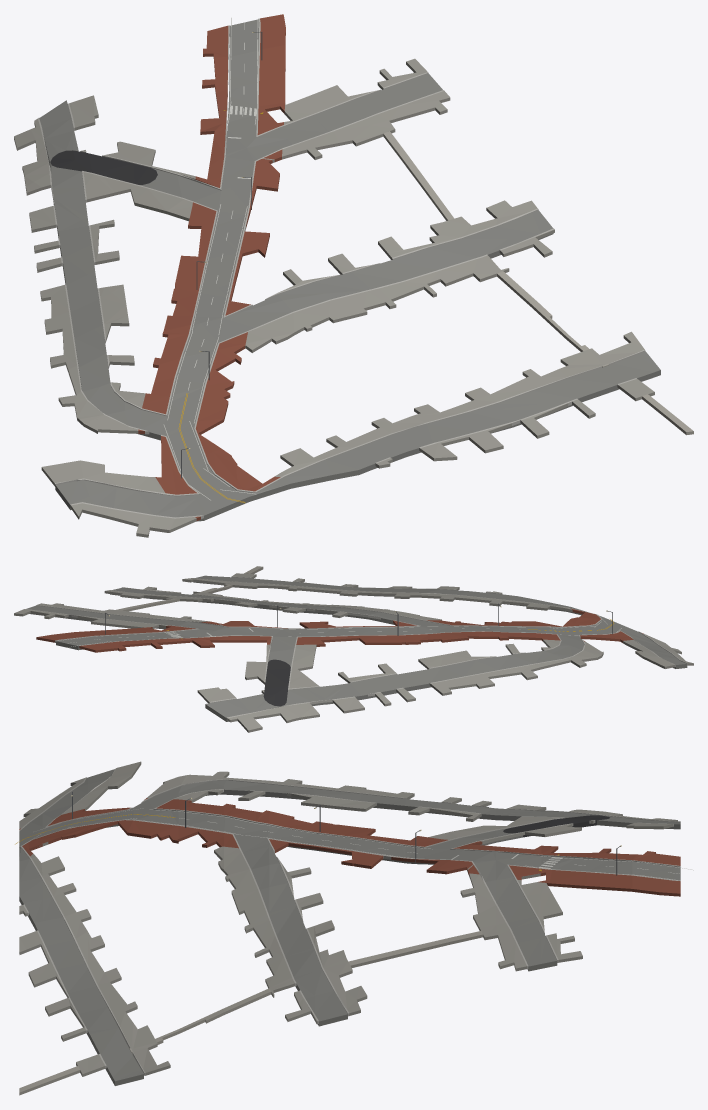
3 views of the same model, one above another, from view 1: azimuth 30°, elevation 25°; view 2: azimuth 150°, elevation 25°; view 3: azimuth 270°, elevation 25° (orthographic). The views are drawn at different scales.
Bounding box in the file's own units: 147 × 46.69 × 150.
